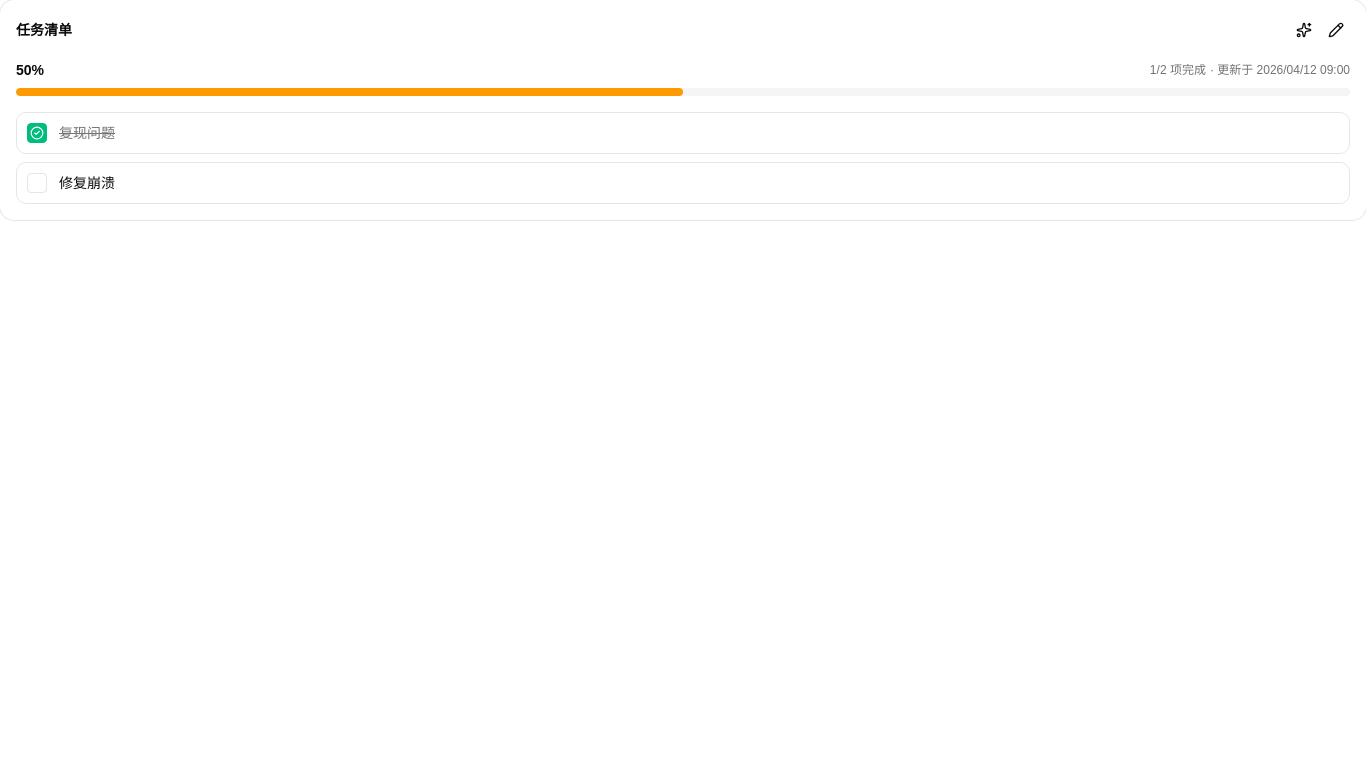
Test case: IssueChecklistCard › disables appending when every suggestion is deselected
The width and height of the screenshot is (1366, 768).
Click the button named "智能识别任务清单建议": click(1304, 30) x1=1290 y1=16 x2=1318 y2=44
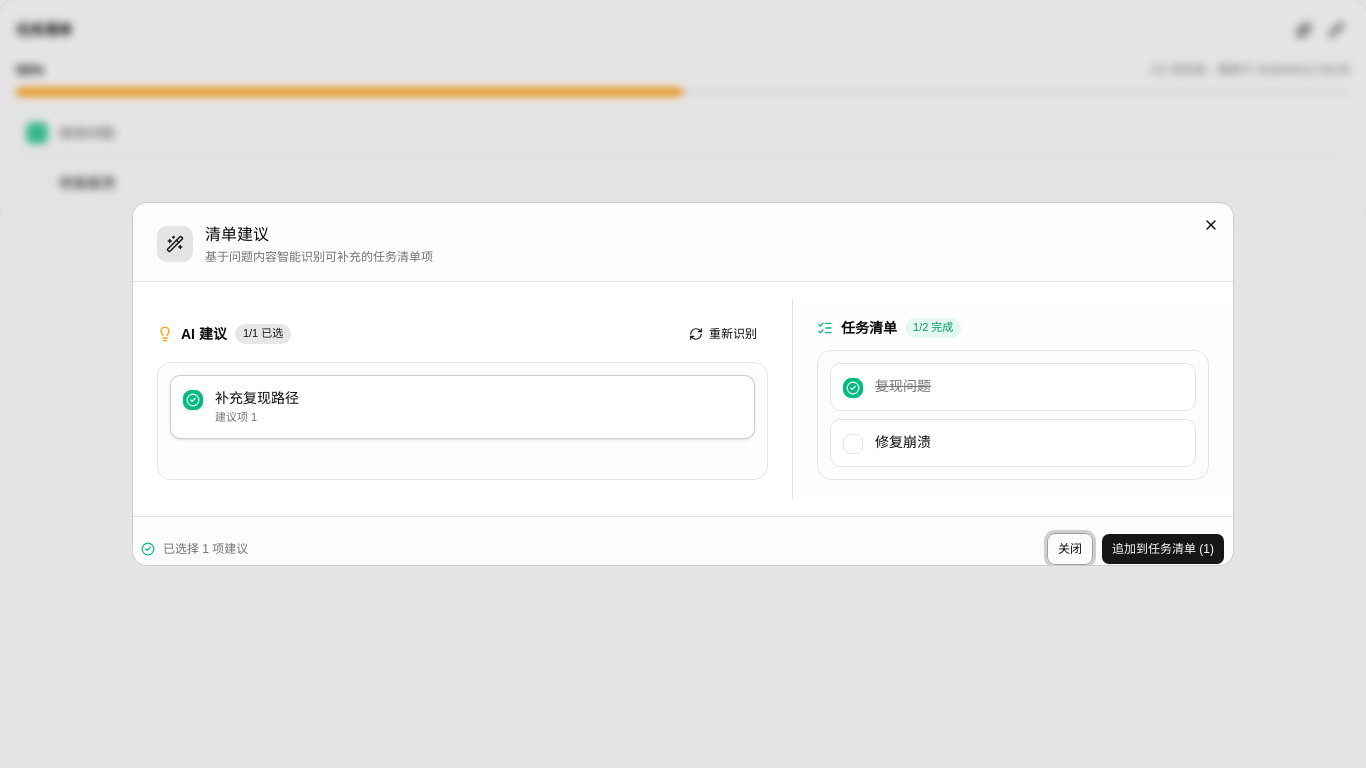
Expected: the text "补充复现路径" is shown
Click the text "补充复现路径": click(257, 398) x1=215 y1=390 x2=299 y2=406
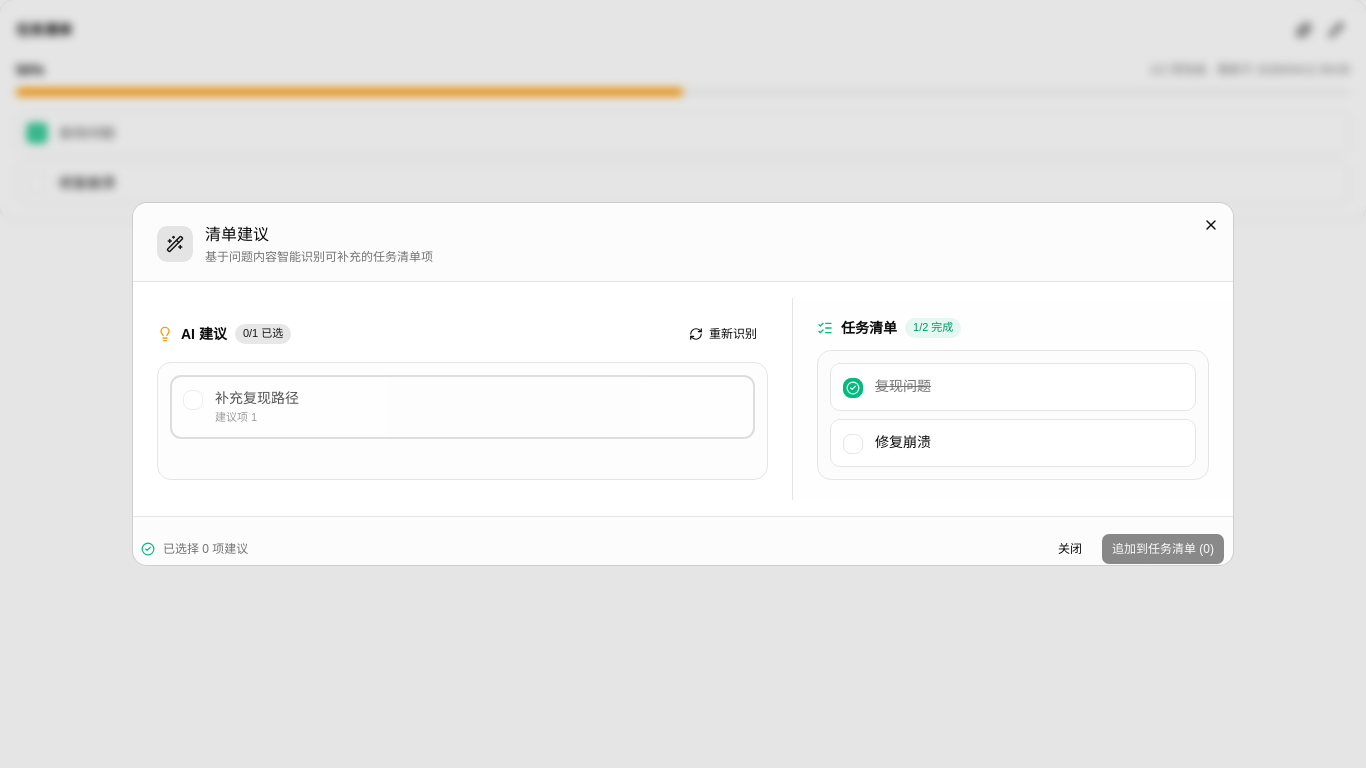
Expected: the text "0/1 已选" is shown, x1=235 y1=324 x2=291 y2=344
Expected: the button "追加到任务清单 (0)" is disabled, x1=1101 y1=533 x2=1225 y2=565
